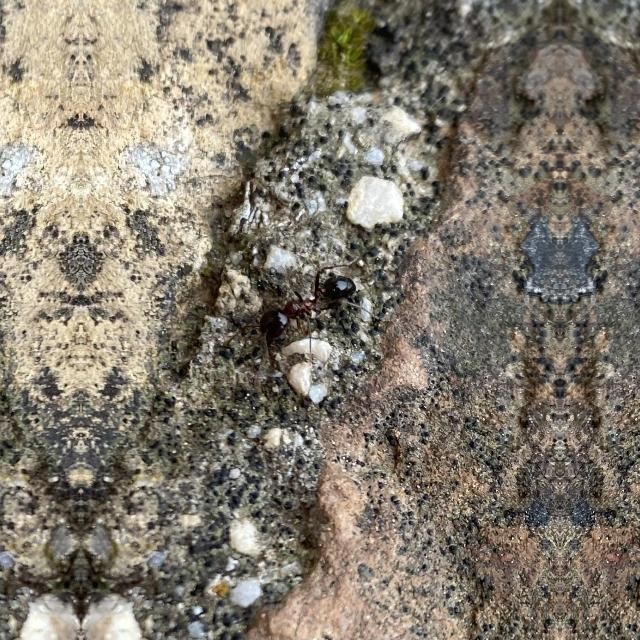Messor: (248, 266, 362, 354)
